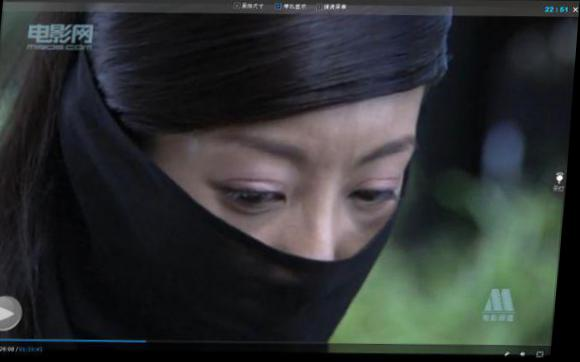WRONG: (143, 102, 425, 361)
